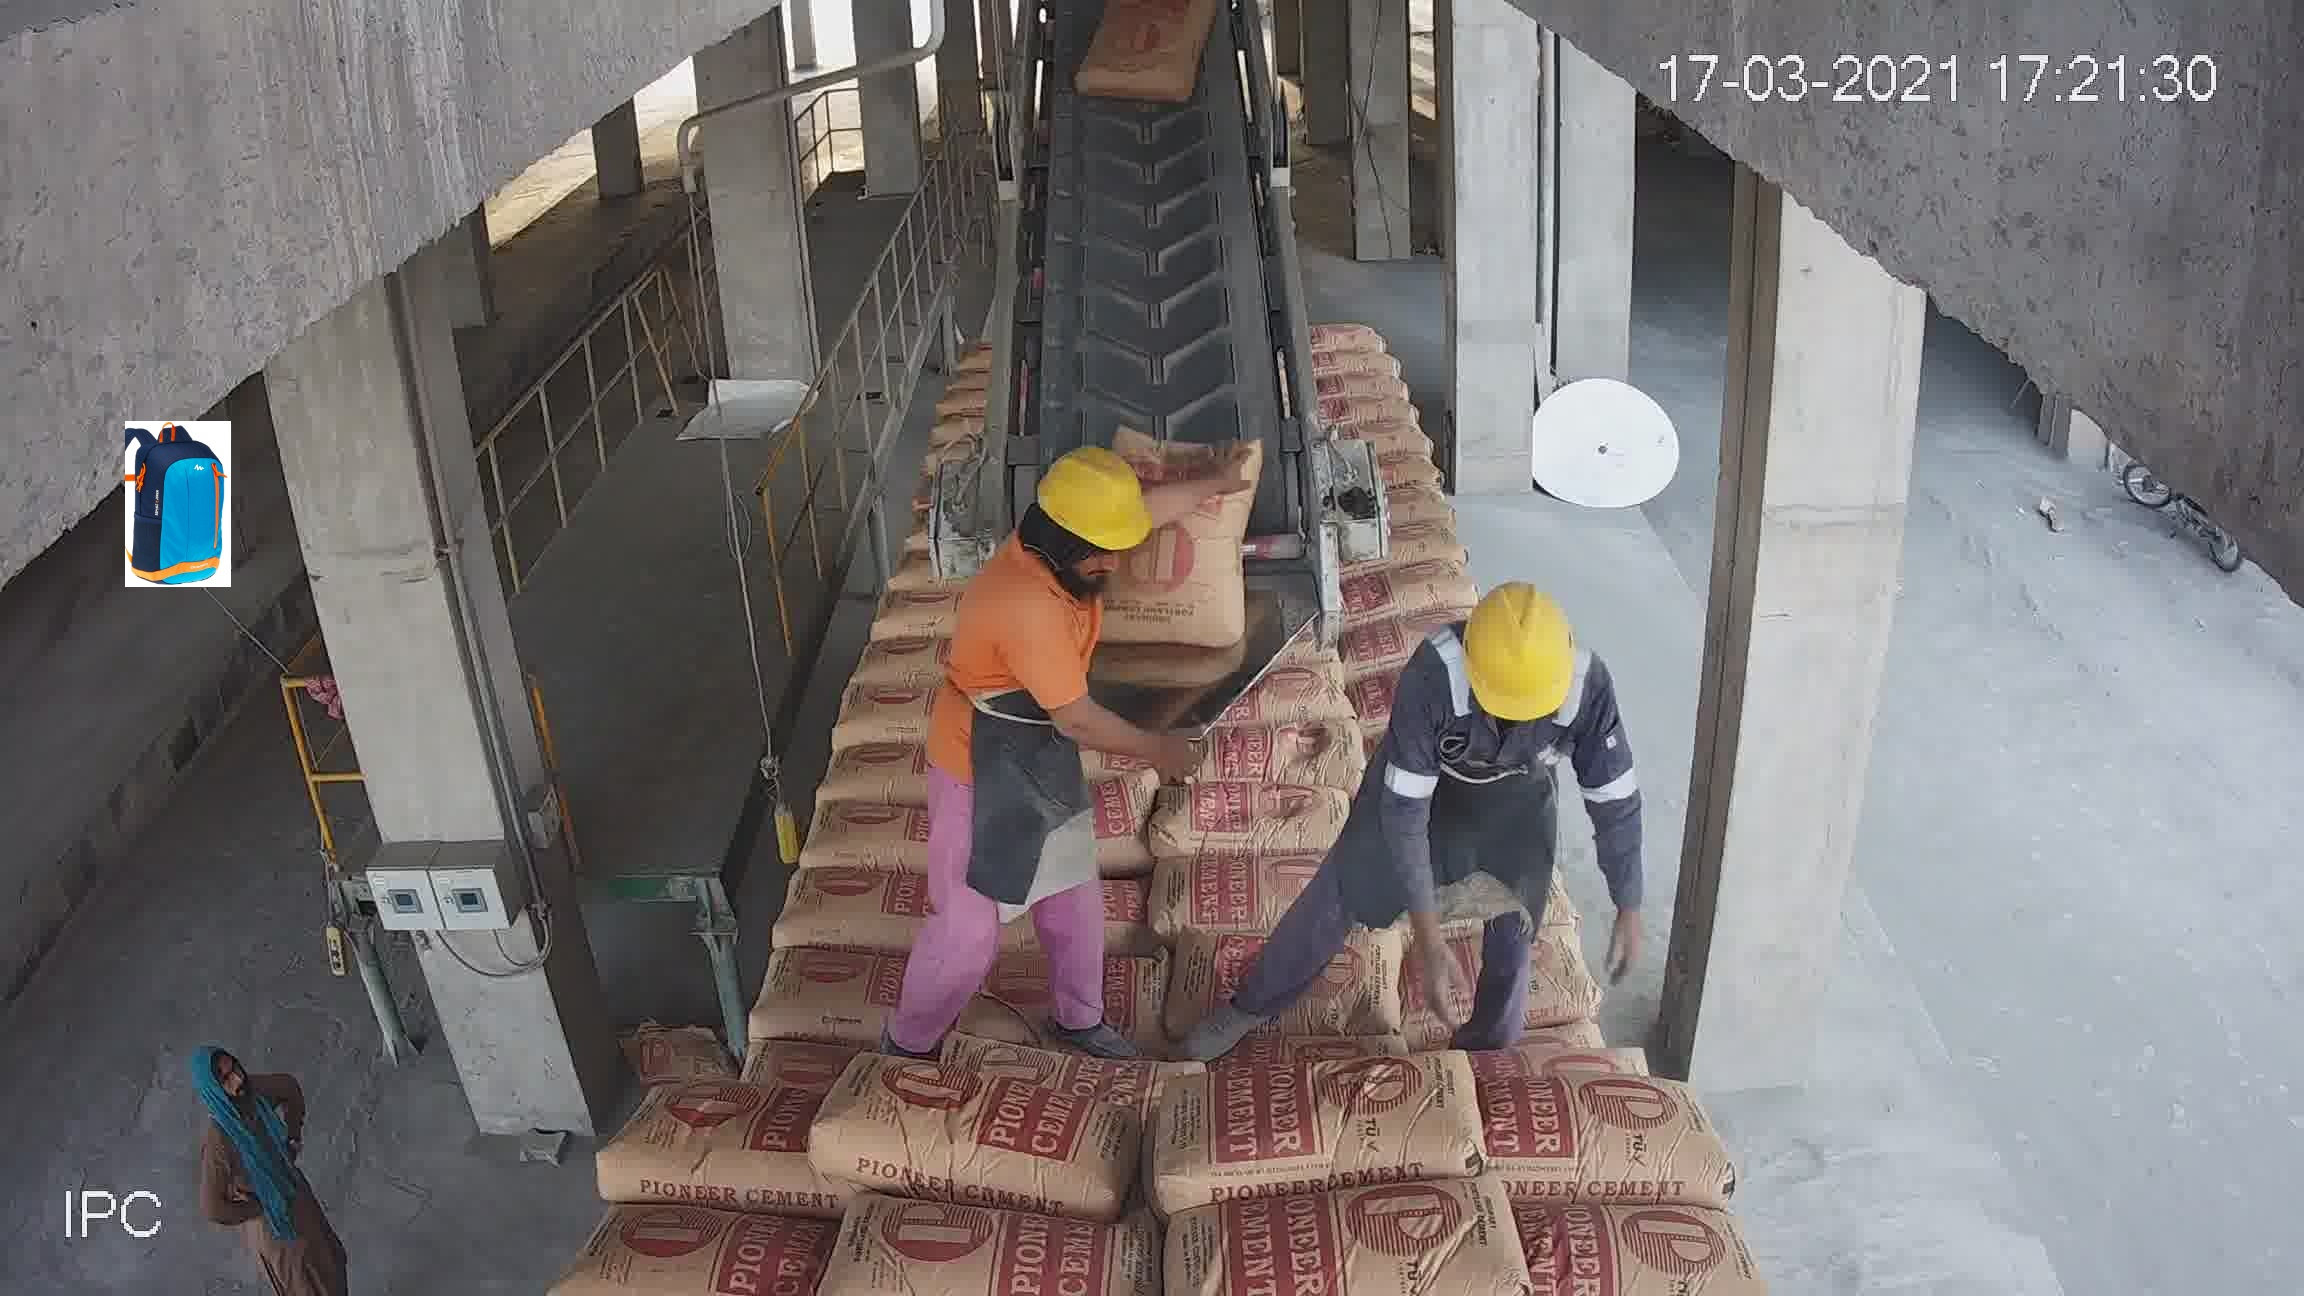bag_h: (1128, 1043, 1491, 1203), (1187, 1144, 1519, 1296), (793, 1052, 1143, 1195), (1124, 821, 1445, 961), (1133, 926, 1434, 1068), (791, 1192, 1177, 1296), (631, 937, 885, 1086), (1423, 964, 1711, 1092), (1472, 1079, 1728, 1217), (883, 949, 1165, 1071), (555, 1079, 826, 1206), (1146, 720, 1412, 845), (855, 832, 1158, 935), (1418, 847, 1635, 981), (888, 745, 1147, 840), (540, 1218, 850, 1294), (682, 859, 896, 961), (1503, 1214, 1761, 1296), (1404, 756, 1600, 856), (737, 782, 908, 872), (1008, 668, 1185, 733), (1021, 707, 1180, 777), (1030, 571, 1195, 631), (1400, 714, 1541, 782), (1008, 620, 1176, 677), (900, 538, 1027, 600), (1044, 540, 1174, 585), (1187, 604, 1272, 673), (1423, 646, 1495, 725), (1199, 505, 1291, 567), (896, 503, 1024, 544), (1182, 562, 1290, 608)
belt: (1027, 9, 1288, 478)
